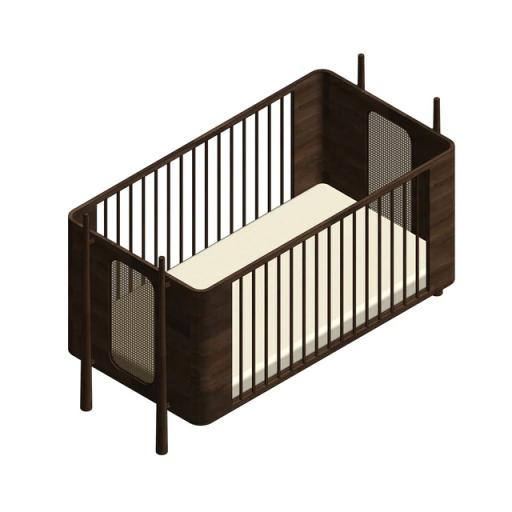crib: (69, 56, 454, 453)
